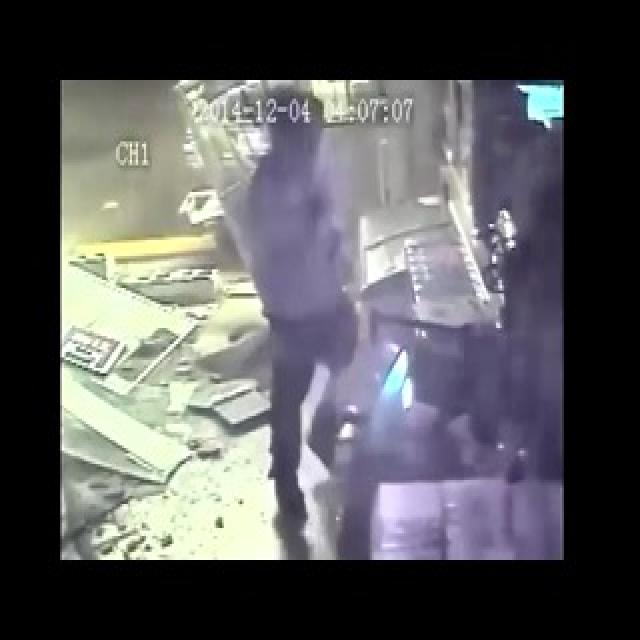burglary: (72, 104, 280, 489)
